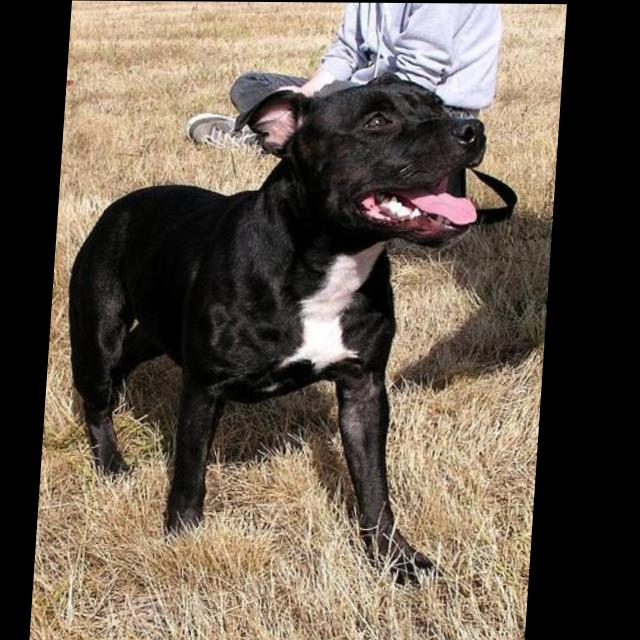staffford: (59, 70, 497, 587)
